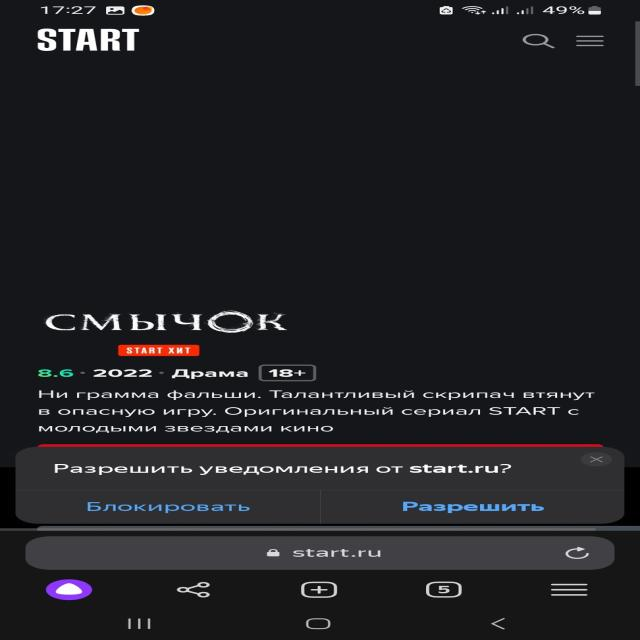button: (50, 494, 292, 519), (369, 493, 575, 519), (579, 451, 619, 469)
system: (20, 448, 623, 524)
